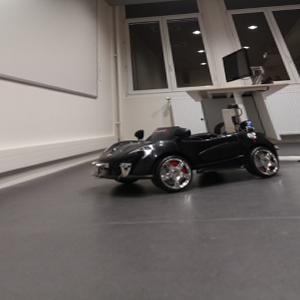big: (90, 118, 283, 194)
